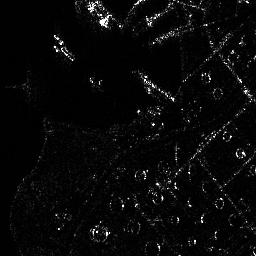ship: (78, 1, 116, 29), (51, 32, 75, 62)
